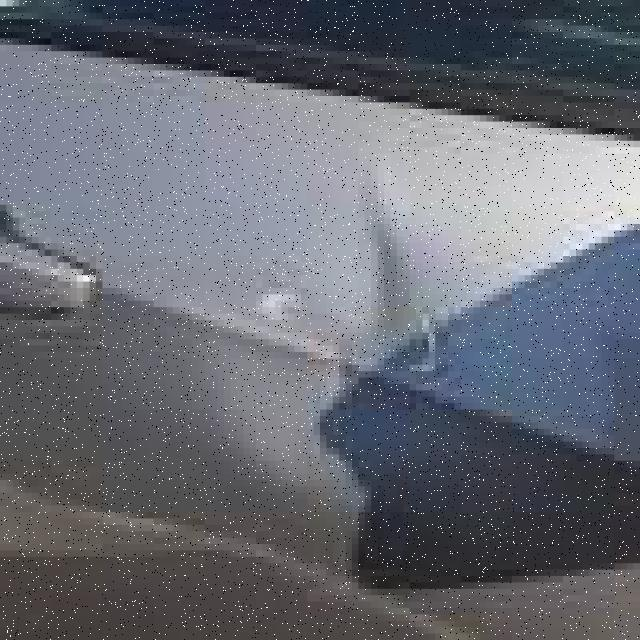doorouter-dent: (0, 90, 634, 615)
